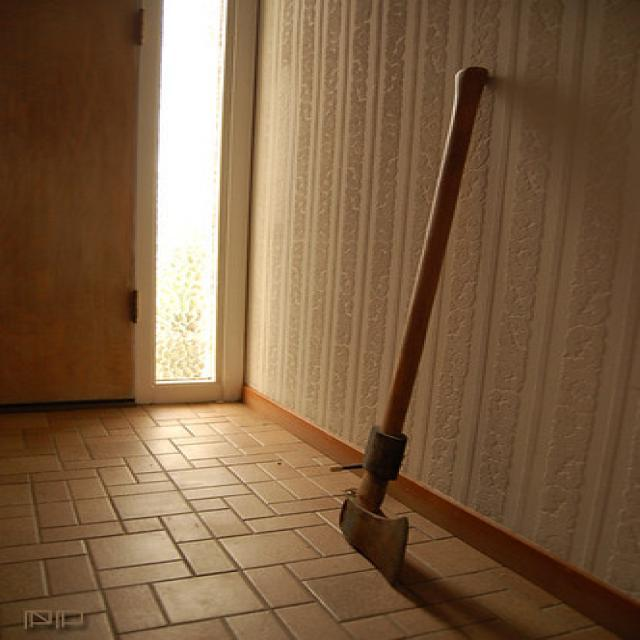Axe: (340, 66, 488, 583)
